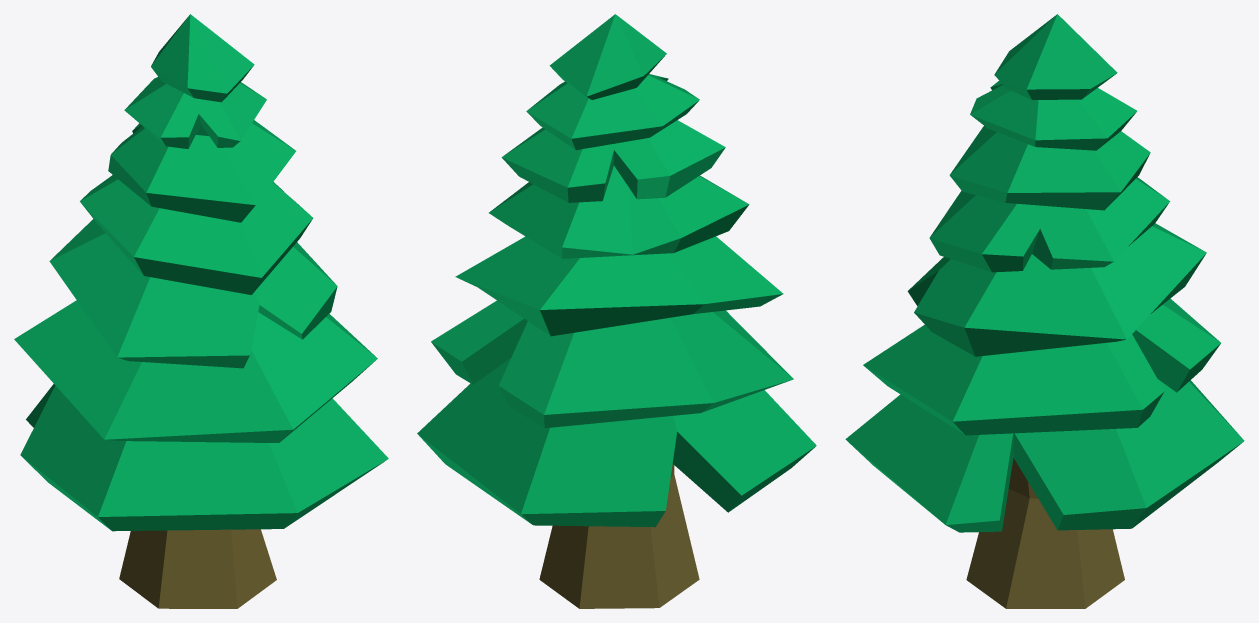
Rendered from tree_pine2.fbx.
3 views of the same model, side by side, from view 1: azimuth 30°, elevation 25°; view 2: azimuth 150°, elevation 25°; view 3: azimuth 270°, elevation 25° (orthographic).
Parts seen in each view (by area): view 1: Cylinder.001; view 2: Cylinder.001; view 3: Cylinder.001.
Boxes of the visible parts, <box> form: Cylinder.001: <box>14,14,388,608</box>; Cylinder.001: <box>417,14,816,608</box>; Cylinder.001: <box>845,14,1244,608</box>.
Bounding box in the file's own units: 631 × 1136 × 727.
